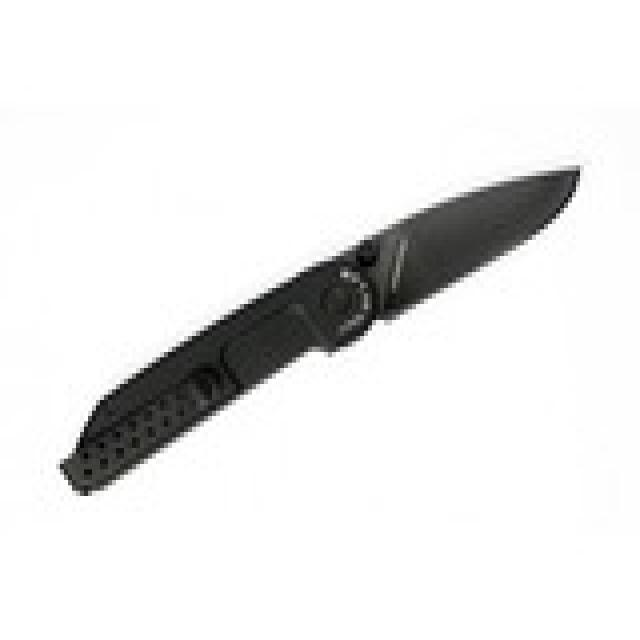Knife: (43, 157, 586, 526)
